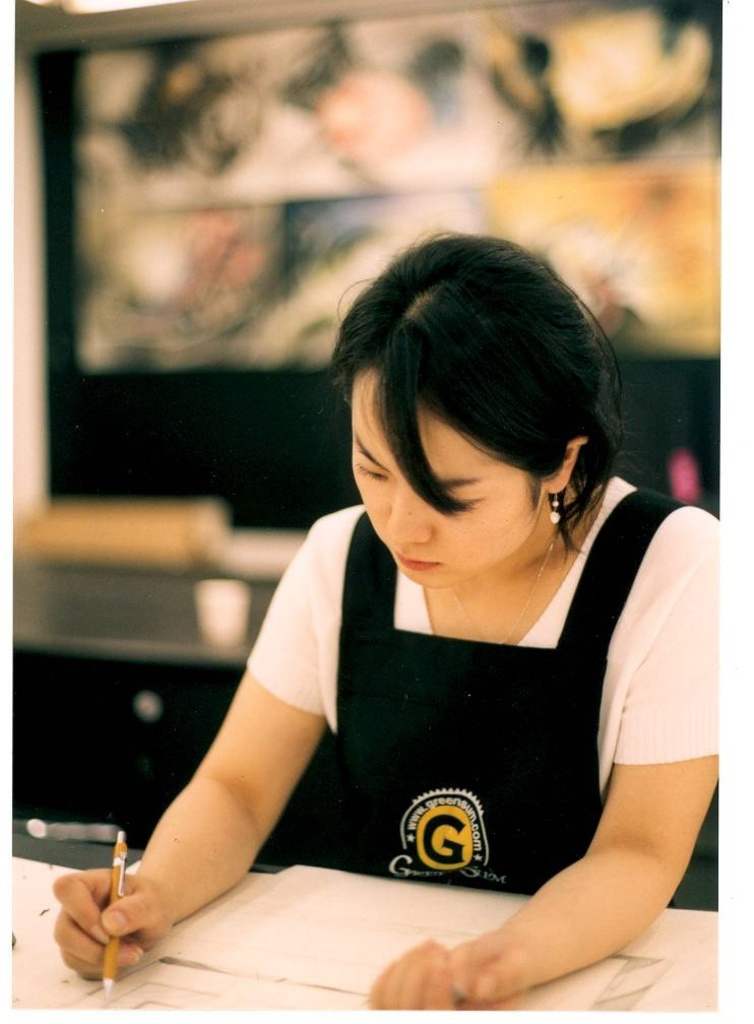Human-face: (352, 368, 538, 586)
